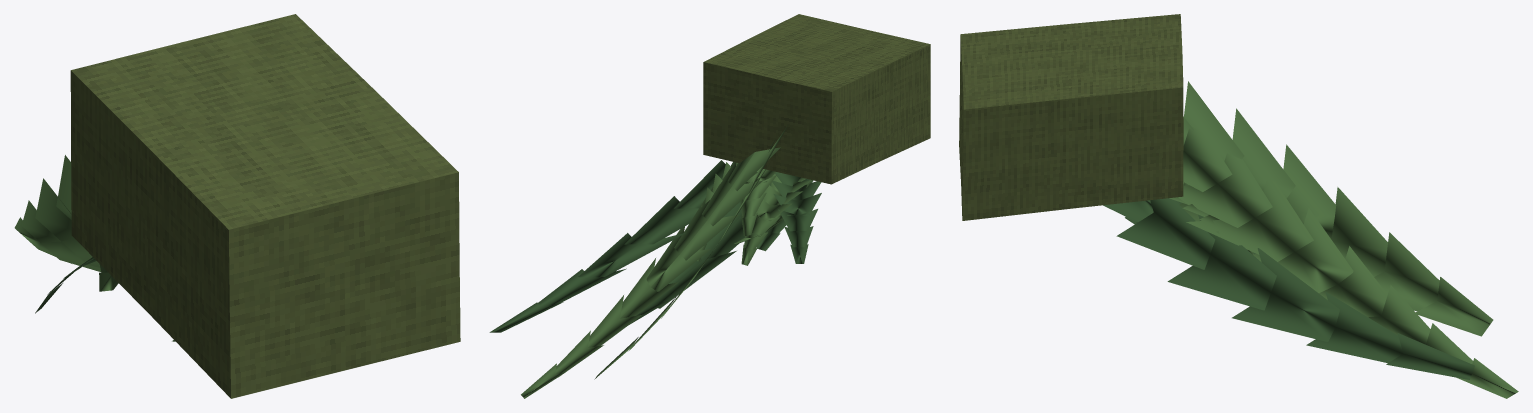
The model's file is pack_satchel_foliage.glb.
The picture shows the model from 3 angles, left to right: view 1: azimuth 30°, elevation 25°; view 2: azimuth 150°, elevation 25°; view 3: azimuth 270°, elevation 25°; orthographic projection. The views are drawn at different scales.
Visible parts, largest first — view 1: pack_satchel_foliage, pack_satchel_foliage_sprig_5; view 2: pack_satchel_foliage, pack_satchel_foliage_sprig_10, pack_satchel_foliage_sprig_2, pack_satchel_foliage_sprig_7, pack_satchel_foliage_sprig_3, pack_satchel_foliage_sprig_1, pack_satchel_foliage_sprig_0, pack_satchel_foliage_sprig_5; view 3: pack_satchel_foliage, pack_satchel_foliage_sprig_10, pack_satchel_foliage_sprig_2, pack_satchel_foliage_sprig_5, pack_satchel_foliage_sprig_3.
Boxes of the visible parts, x1,y1,x2,y2 form: pack_satchel_foliage: (70,14,460,398); pack_satchel_foliage_sprig_5: (14,155,100,271); pack_satchel_foliage: (703,14,930,184); pack_satchel_foliage_sprig_10: (521,147,780,398); pack_satchel_foliage_sprig_2: (489,160,725,332); pack_satchel_foliage_sprig_7: (772,172,821,263); pack_satchel_foliage_sprig_3: (629,176,772,324); pack_satchel_foliage_sprig_1: (741,174,811,265); pack_satchel_foliage_sprig_0: (740,169,776,236); pack_satchel_foliage_sprig_5: (594,124,788,379); pack_satchel_foliage: (959,14,1183,220); pack_satchel_foliage_sprig_10: (1178,126,1518,398); pack_satchel_foliage_sprig_2: (1116,198,1474,379); pack_satchel_foliage_sprig_5: (1179,81,1493,336); pack_satchel_foliage_sprig_3: (1103,200,1256,254).
Size of the model in its own units: 0.3561 by 0.3683 by 0.6533.
Materials: 2 (2 with a texture image).
